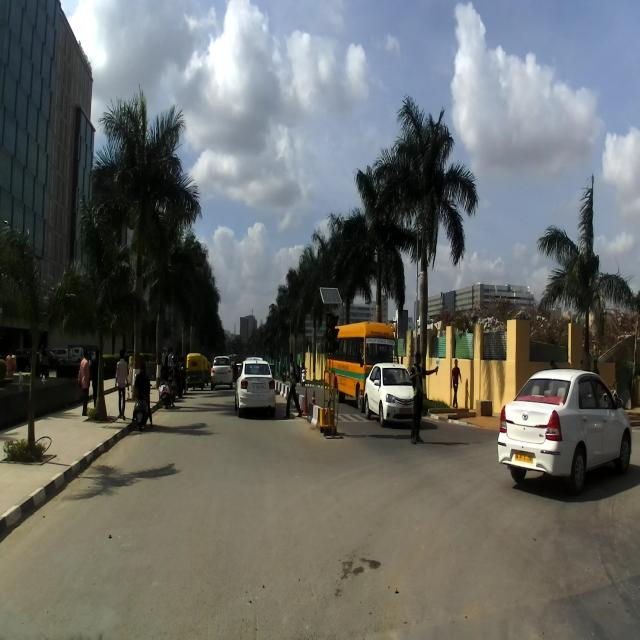Car_Honda: (234, 353, 276, 413)
Car_Toyota: (497, 368, 632, 497), (363, 359, 422, 427)
